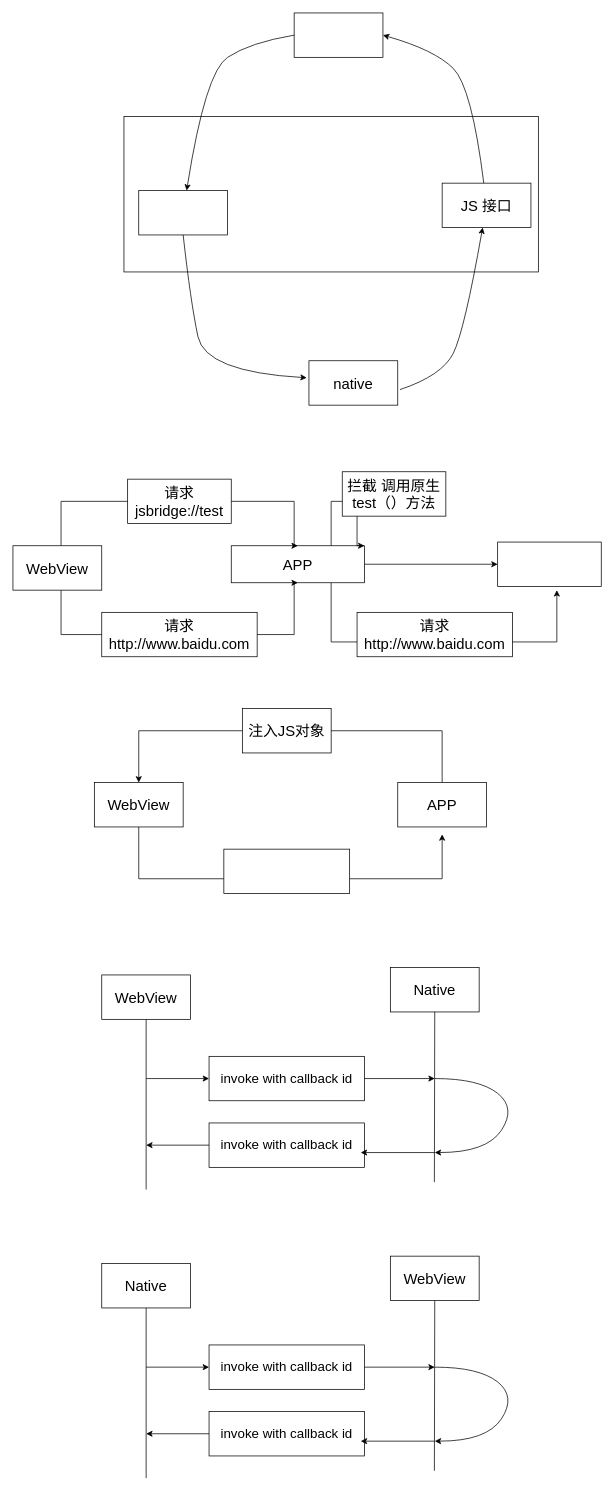
The diagram is 614 pixels wide and 1492 high, and some of its shapes have lost their labels. The shapes that lost their labels are listed below. From the top down, each one's box as (x1, y1, x2, y2) in pixels, then its label:
(293, 12, 383, 57): web
(138, 190, 228, 235): native 接口
(123, 116, 538, 272): JSBridge
(497, 541, 601, 586): Server
(223, 848, 350, 894): 通过注入的JS对象调用原生方法
